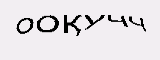О: (35, 13, 59, 33), (15, 17, 33, 34)
У: (84, 13, 105, 32)
Ч: (127, 16, 149, 32), (108, 14, 129, 29)
Қ: (62, 14, 82, 38)
